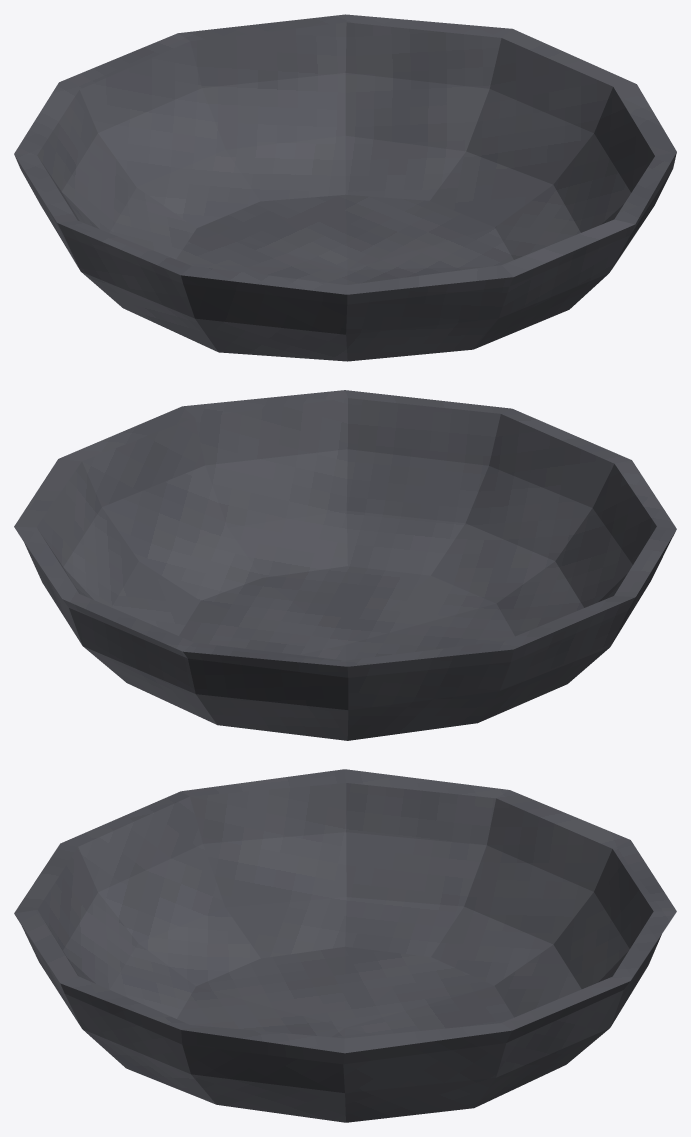
File: plate_deep_01.glb
3 renders of one model, top to bottom at view 1: azimuth 30°, elevation 25°; view 2: azimuth 150°, elevation 25°; view 3: azimuth 270°, elevation 25°, orthographic.
Parts seen in each view (by area): view 1: plate_deep_01; view 2: plate_deep_01; view 3: plate_deep_01.
Part boxes in pixels (x1=…): plate_deep_01: x1=14, y1=14, x2=676, y2=361; plate_deep_01: x1=14, y1=390, x2=676, y2=740; plate_deep_01: x1=14, y1=769, x2=676, y2=1122.
Size of the model in its own units: 0.2734 by 0.0637 by 0.2723.
1 material, 1 textured.
